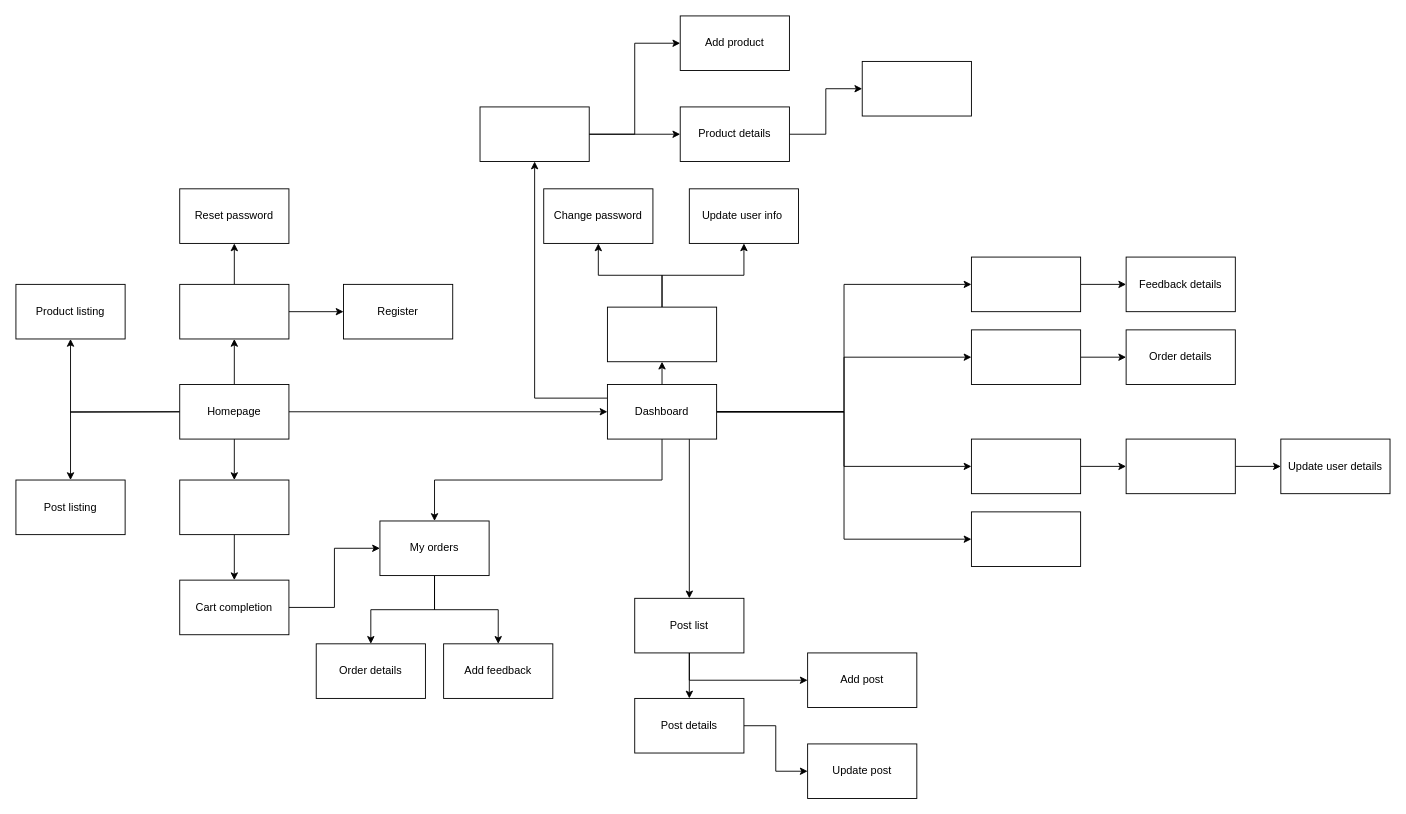
The diagram is 1406 pixels wide and 814 high, and some of its shapes have lost their labels. The shapes that lost their labels are listed below. From the top down, each one's box as (x1, y1, x2, y2) in pixels, then its label:
(861, 61, 971, 116): Update product
(479, 106, 589, 162): Product list
(971, 256, 1081, 312): Feedback list
(179, 283, 289, 339): Login
(607, 306, 717, 362): User Profile
(971, 329, 1081, 384): Order list
(971, 438, 1081, 494): User list
(1125, 438, 1235, 494): User details
(179, 479, 289, 535): Cart details
(971, 511, 1081, 566): Settings list
